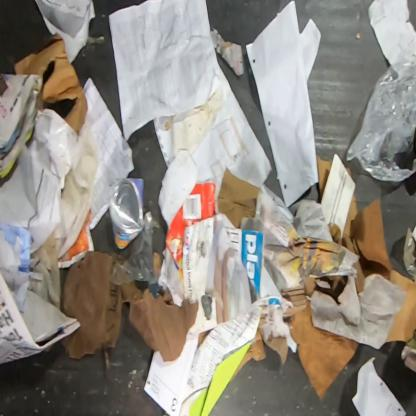cardboard: (328, 193, 415, 350), (281, 278, 360, 400), (14, 33, 87, 134), (165, 182, 217, 282), (217, 167, 261, 228), (229, 326, 266, 382), (265, 336, 289, 368), (317, 155, 332, 203), (403, 224, 415, 280)
metal: (108, 177, 145, 250)
soft_plastic: (346, 30, 415, 182), (111, 211, 162, 297), (296, 200, 331, 241)
